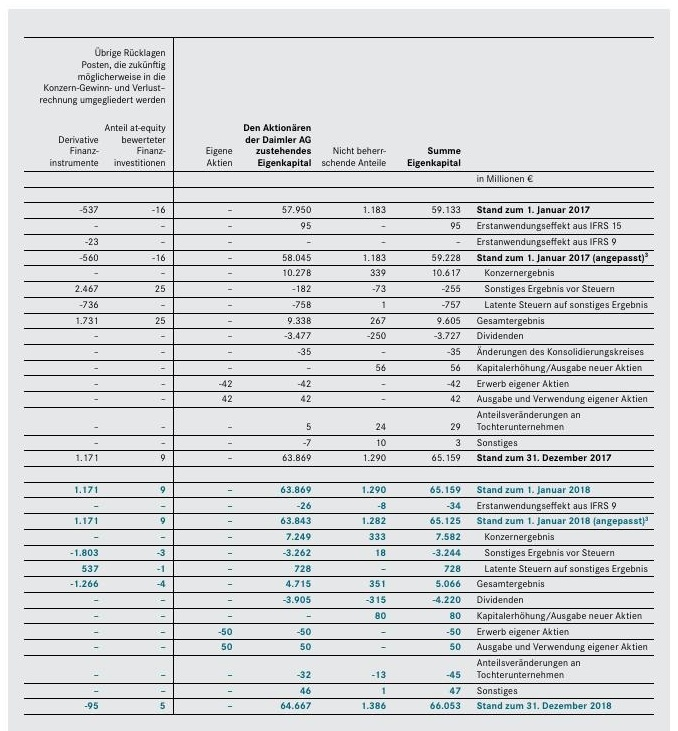table: (0, 0, 678, 731)
